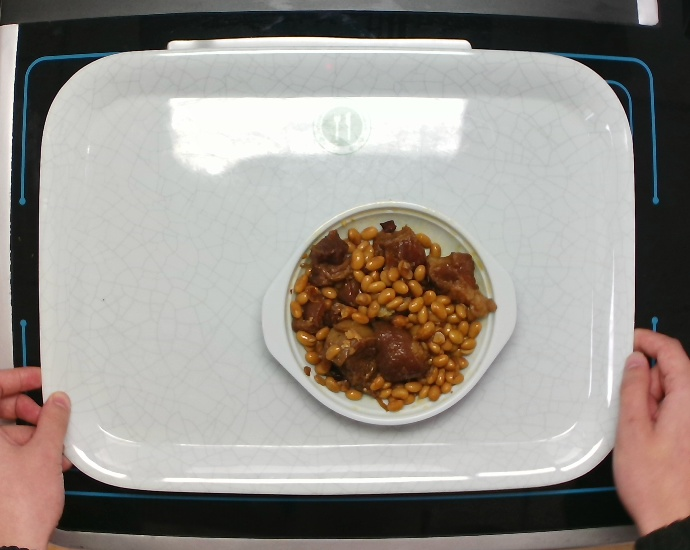JYsf-Shuang_Er_Pan: (249, 196, 524, 436)
